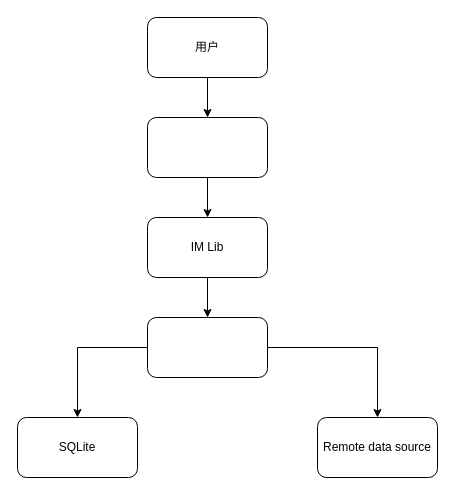
The diagram is 455 pixels wide and 495 high, and some of its shapes have lost their labels. Each missing label, with the centre of its shape:
IM Kit: point 207,147
Repository: point 207,347
